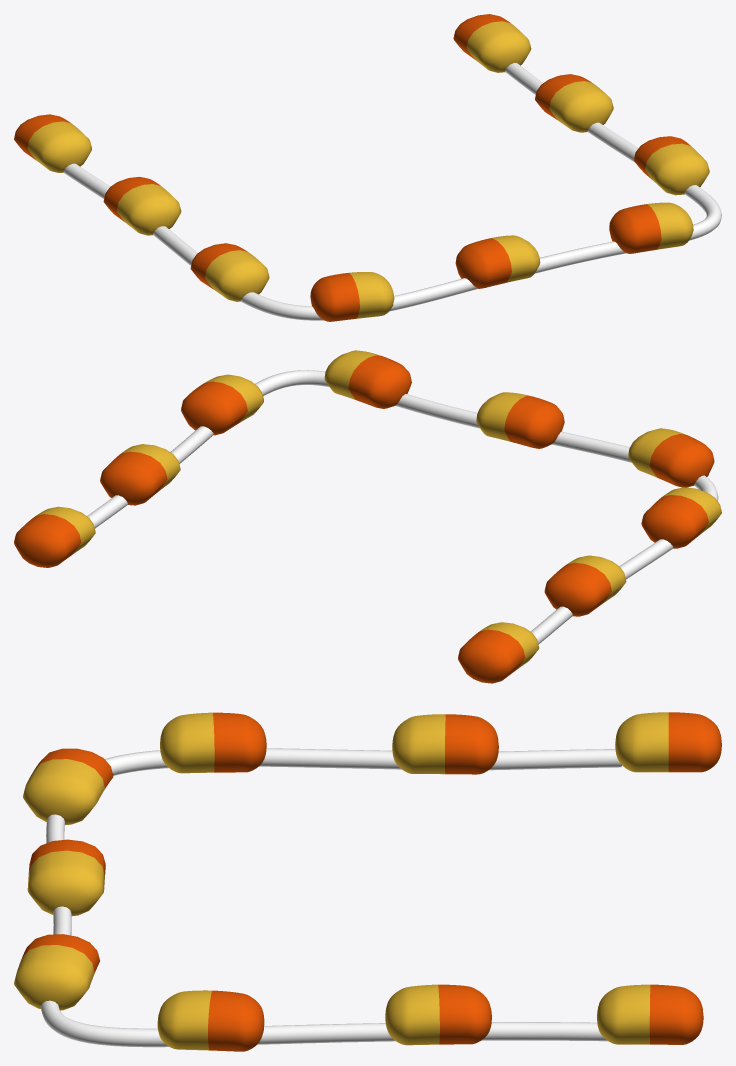
File: dubalarkucultulmus.fbx
3 views of the same model, one above another, from view 1: azimuth 30°, elevation 25°; view 2: azimuth 150°, elevation 25°; view 3: azimuth 270°, elevation 25° (orthographic). The views are drawn at different scales.
Visible parts, largest first — view 1: NurbsPath.033; view 2: NurbsPath.033; view 3: NurbsPath.033.
Boxes of the visible parts, x1=… form: NurbsPath.033: x1=14, y1=14, x2=721, y2=321; NurbsPath.033: x1=14, y1=350, x2=721, y2=683; NurbsPath.033: x1=14, y1=712, x2=721, y2=1051.
Size of the model in its own units: 8609 by 664 by 8264.
